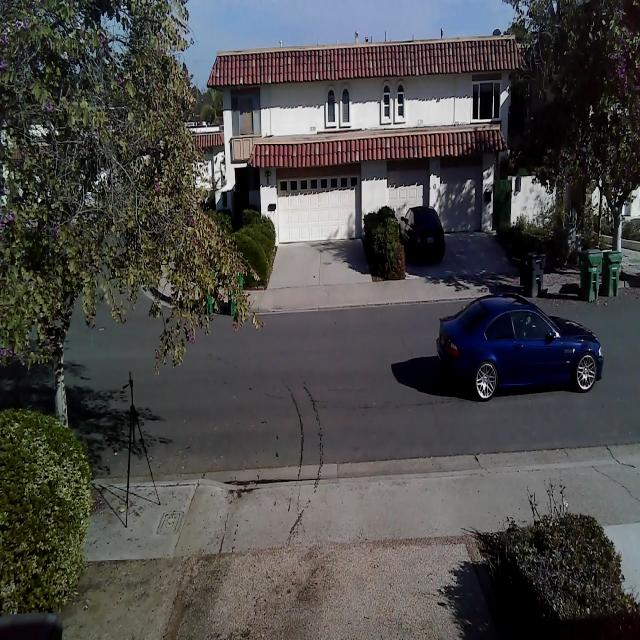Carbeetle: (434, 284, 609, 405)
Civilian: (397, 206, 445, 264)
